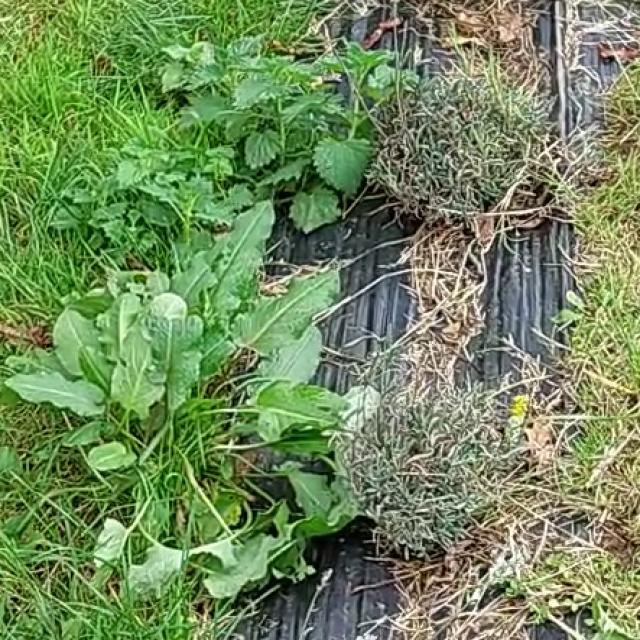organic waste: (9, 195, 394, 609)
